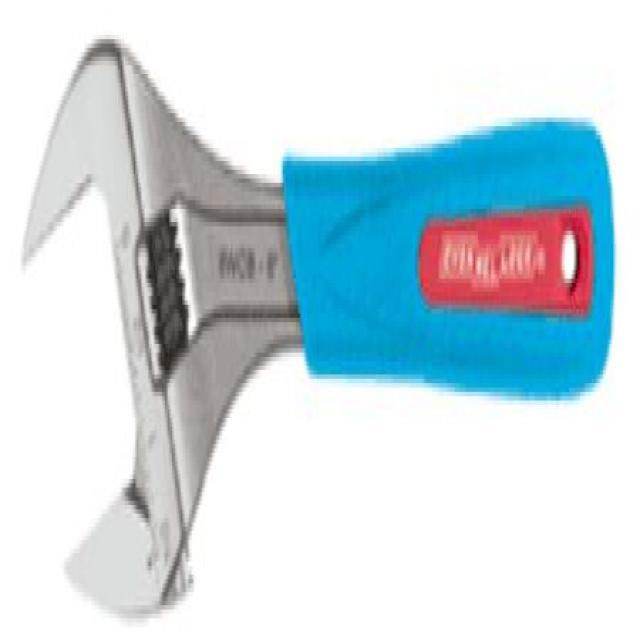wrench: (18, 24, 618, 631)
